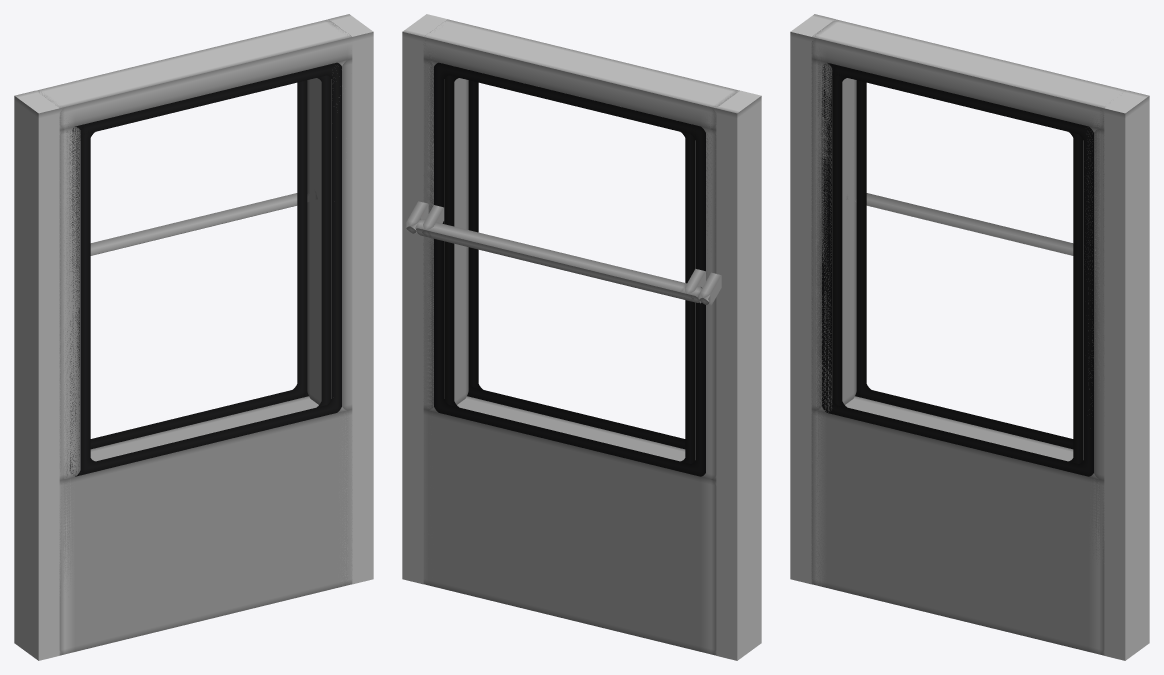
The model's file is mtrduanmen.obj.
3 renders of one model, left to right at view 1: azimuth 30°, elevation 25°; view 2: azimuth 150°, elevation 25°; view 3: azimuth 330°, elevation 25°, orthographic.
Parts seen in each view (by area): view 1: door_right, door_left, main_right, main_left; view 2: door_right, door_left, main_right, main_left; view 3: door_right, door_left, main_left, main_right.
Boxes of the visible parts, <box> form: door_right: <box>38,19,352,654</box>; door_left: <box>36,20,352,655</box>; main_right: <box>14,90,59,660</box>; main_left: <box>328,14,373,584</box>; door_right: <box>405,19,737,654</box>; door_left: <box>422,25,739,655</box>; main_right: <box>716,90,761,660</box>; main_left: <box>402,14,447,584</box>; door_right: <box>811,20,1127,655</box>; door_left: <box>811,19,1122,654</box>; main_left: <box>1104,90,1149,660</box>; main_right: <box>790,14,835,584</box>.
Size of the model in its own units: 1 by 1.56 by 0.1951.
